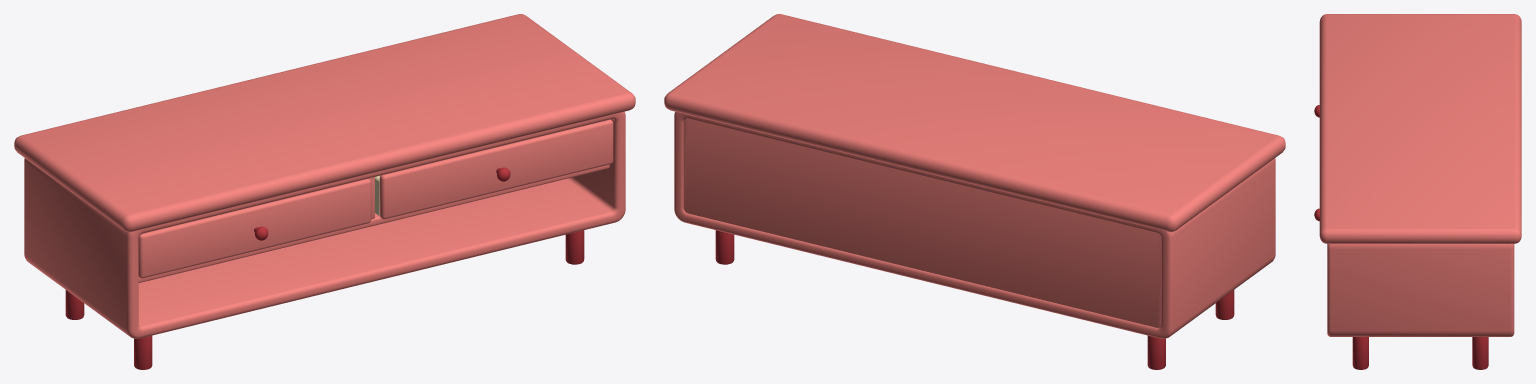
Rendered from rack_baixo_gavetas_coral.glb.
3 views of the same model, side by side, from view 1: azimuth 30°, elevation 25°; view 2: azimuth 150°, elevation 25°; view 3: azimuth 270°, elevation 25° (orthographic). The views are drawn at different scales.
Parts seen in each view (by area): view 1: rack_baixo_gavetas_coral, gaveta_2, gaveta_1; view 2: rack_baixo_gavetas_coral; view 3: rack_baixo_gavetas_coral.
Boxes of the visible parts, <box> form: rack_baixo_gavetas_coral: <box>14,14,635,369</box>; gaveta_2: <box>375,119,613,219</box>; gaveta_1: <box>138,178,371,278</box>; rack_baixo_gavetas_coral: <box>664,14,1285,369</box>; rack_baixo_gavetas_coral: <box>1319,14,1521,369</box>.
Bounding box in the file's own units: 1.39 × 0.453 × 0.5546.
Materials: 1 (1 with a texture image).
